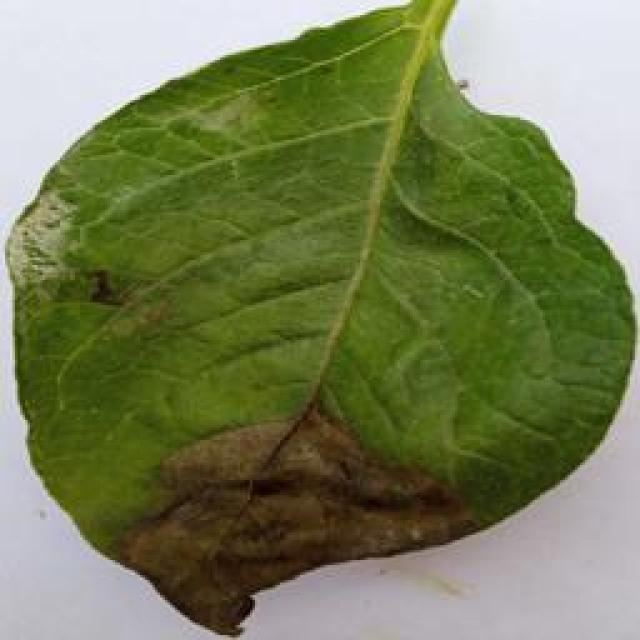Potato_Late_Blight: (8, 8, 636, 632)
